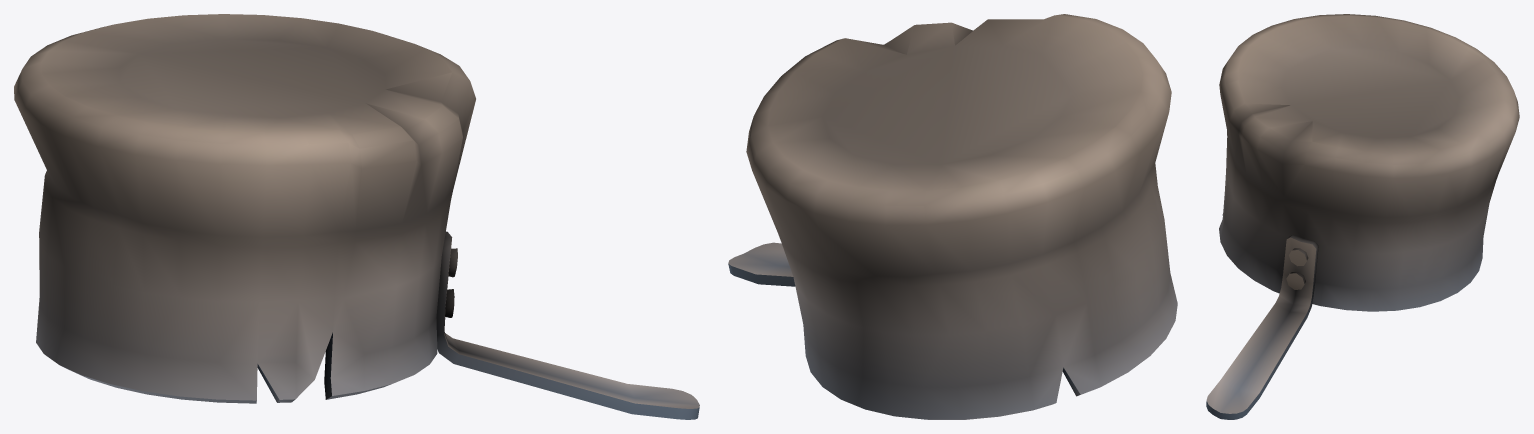
The model's file is Cap_Ladle.gltf.
3 renders of one model, left to right at view 1: azimuth 30°, elevation 25°; view 2: azimuth 150°, elevation 25°; view 3: azimuth 270°, elevation 25°, orthographic. The views are drawn at different scales.
Parts seen in each view (by area): view 1: Cap_Ladle; view 2: Cap_Ladle; view 3: Cap_Ladle.
Part boxes in pixels (x1=…): Cap_Ladle: x1=14, y1=14, x2=699, y2=419; Cap_Ladle: x1=728, y1=14, x2=1177, y2=419; Cap_Ladle: x1=1206, y1=14, x2=1519, y2=419.
Bounding box in the file's own units: 1.44 × 0.93 × 1.09.
Materials: 1 (1 with a texture image).
